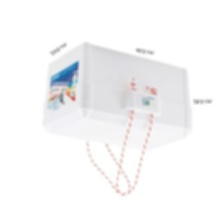foam_box: (36, 38, 196, 203)
